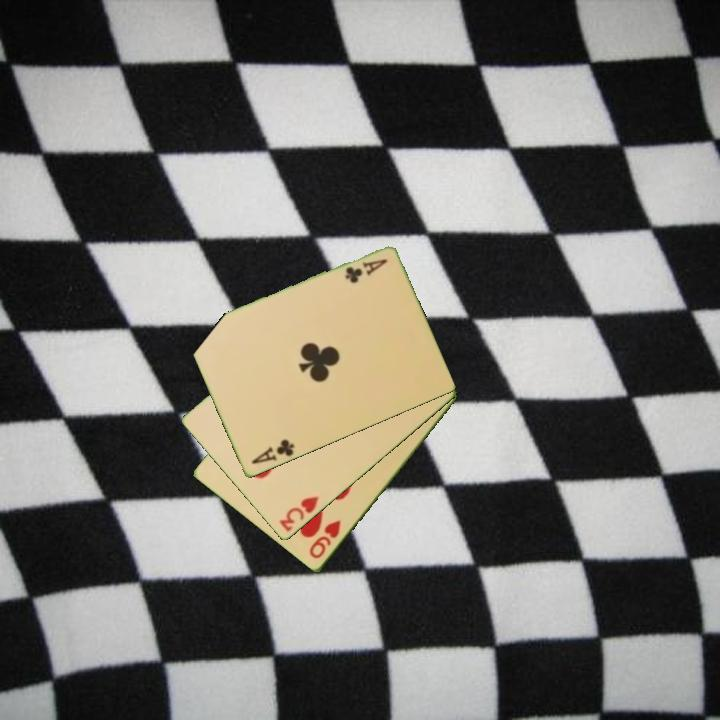3h: (276, 493, 322, 535)
9h: (306, 516, 344, 562)
Ac: (248, 436, 297, 467), (341, 256, 390, 287)
